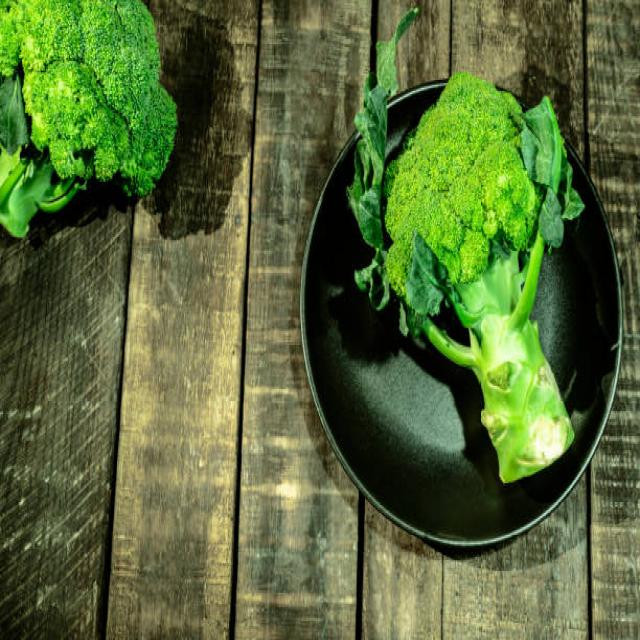broccoli: (367, 84, 575, 486), (0, 0, 221, 312)
